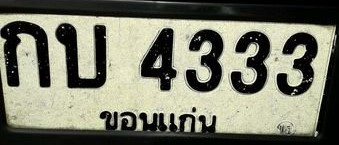txt01: (1, 19, 52, 89)
txt21: (53, 21, 108, 90)
